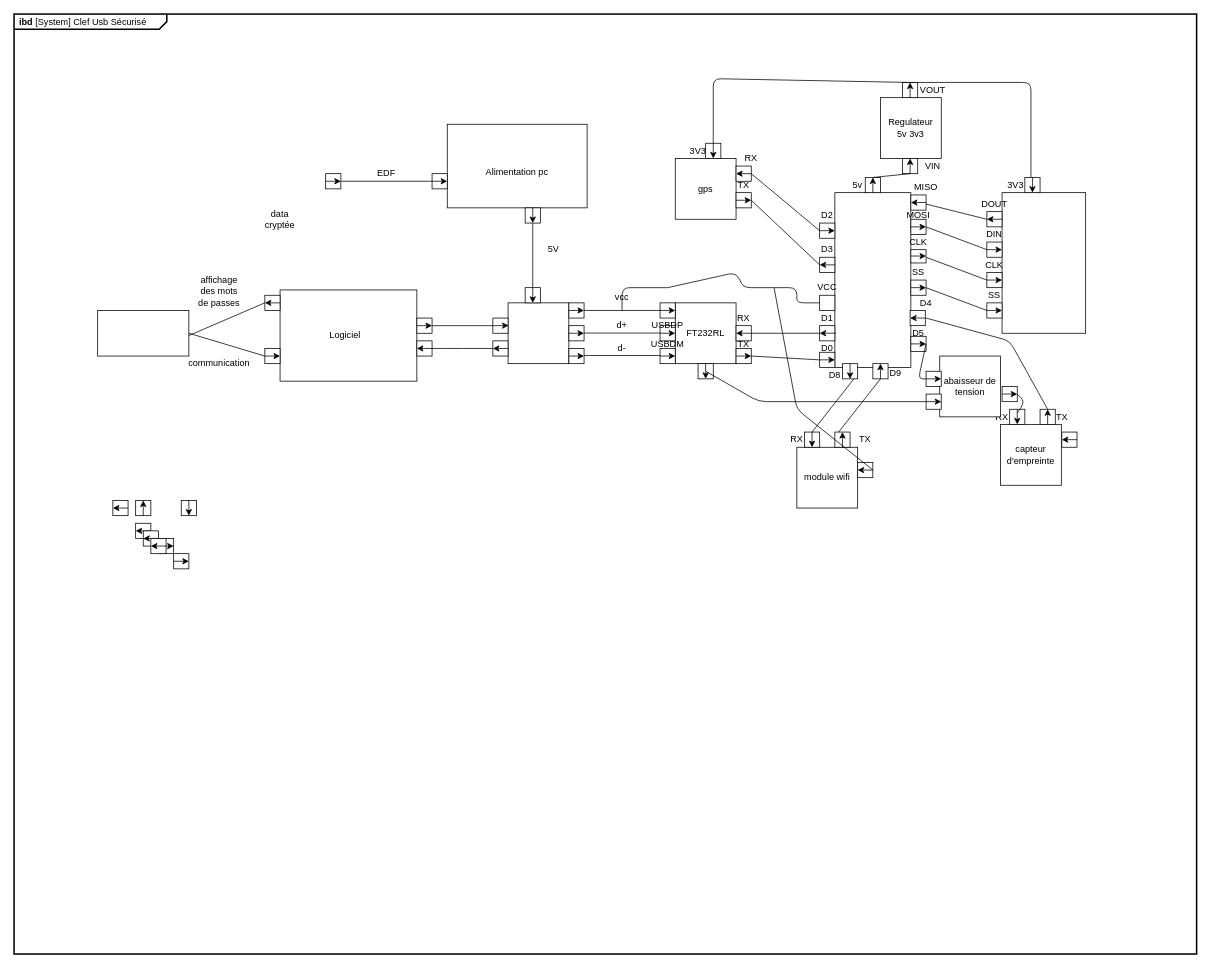
This 1210x967 diagram has some shape labels left out. Each missing label, with the centre of its shape:
"atmega328" goes at pixel 872 279.
"lecteur carte sd" goes at pixel 1043 262.
"Port USB" goes at pixel 538 333.
"Utilisateur" goes at pixel 143 333.
